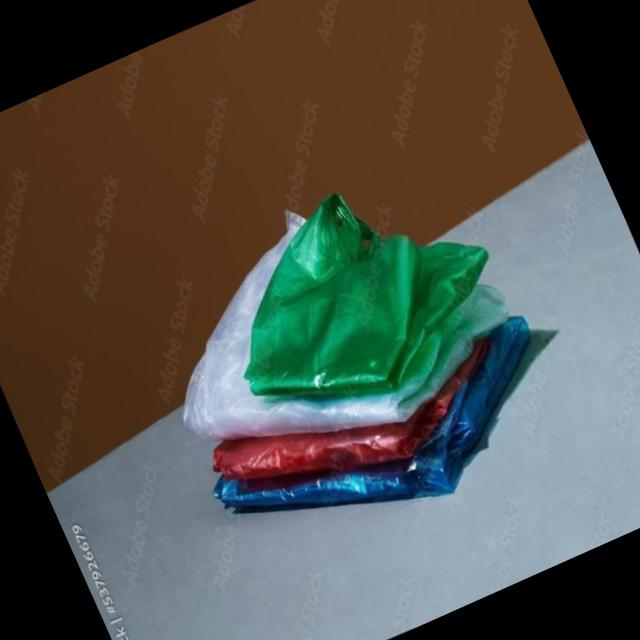KantongPlastik: (117, 128, 598, 582)
